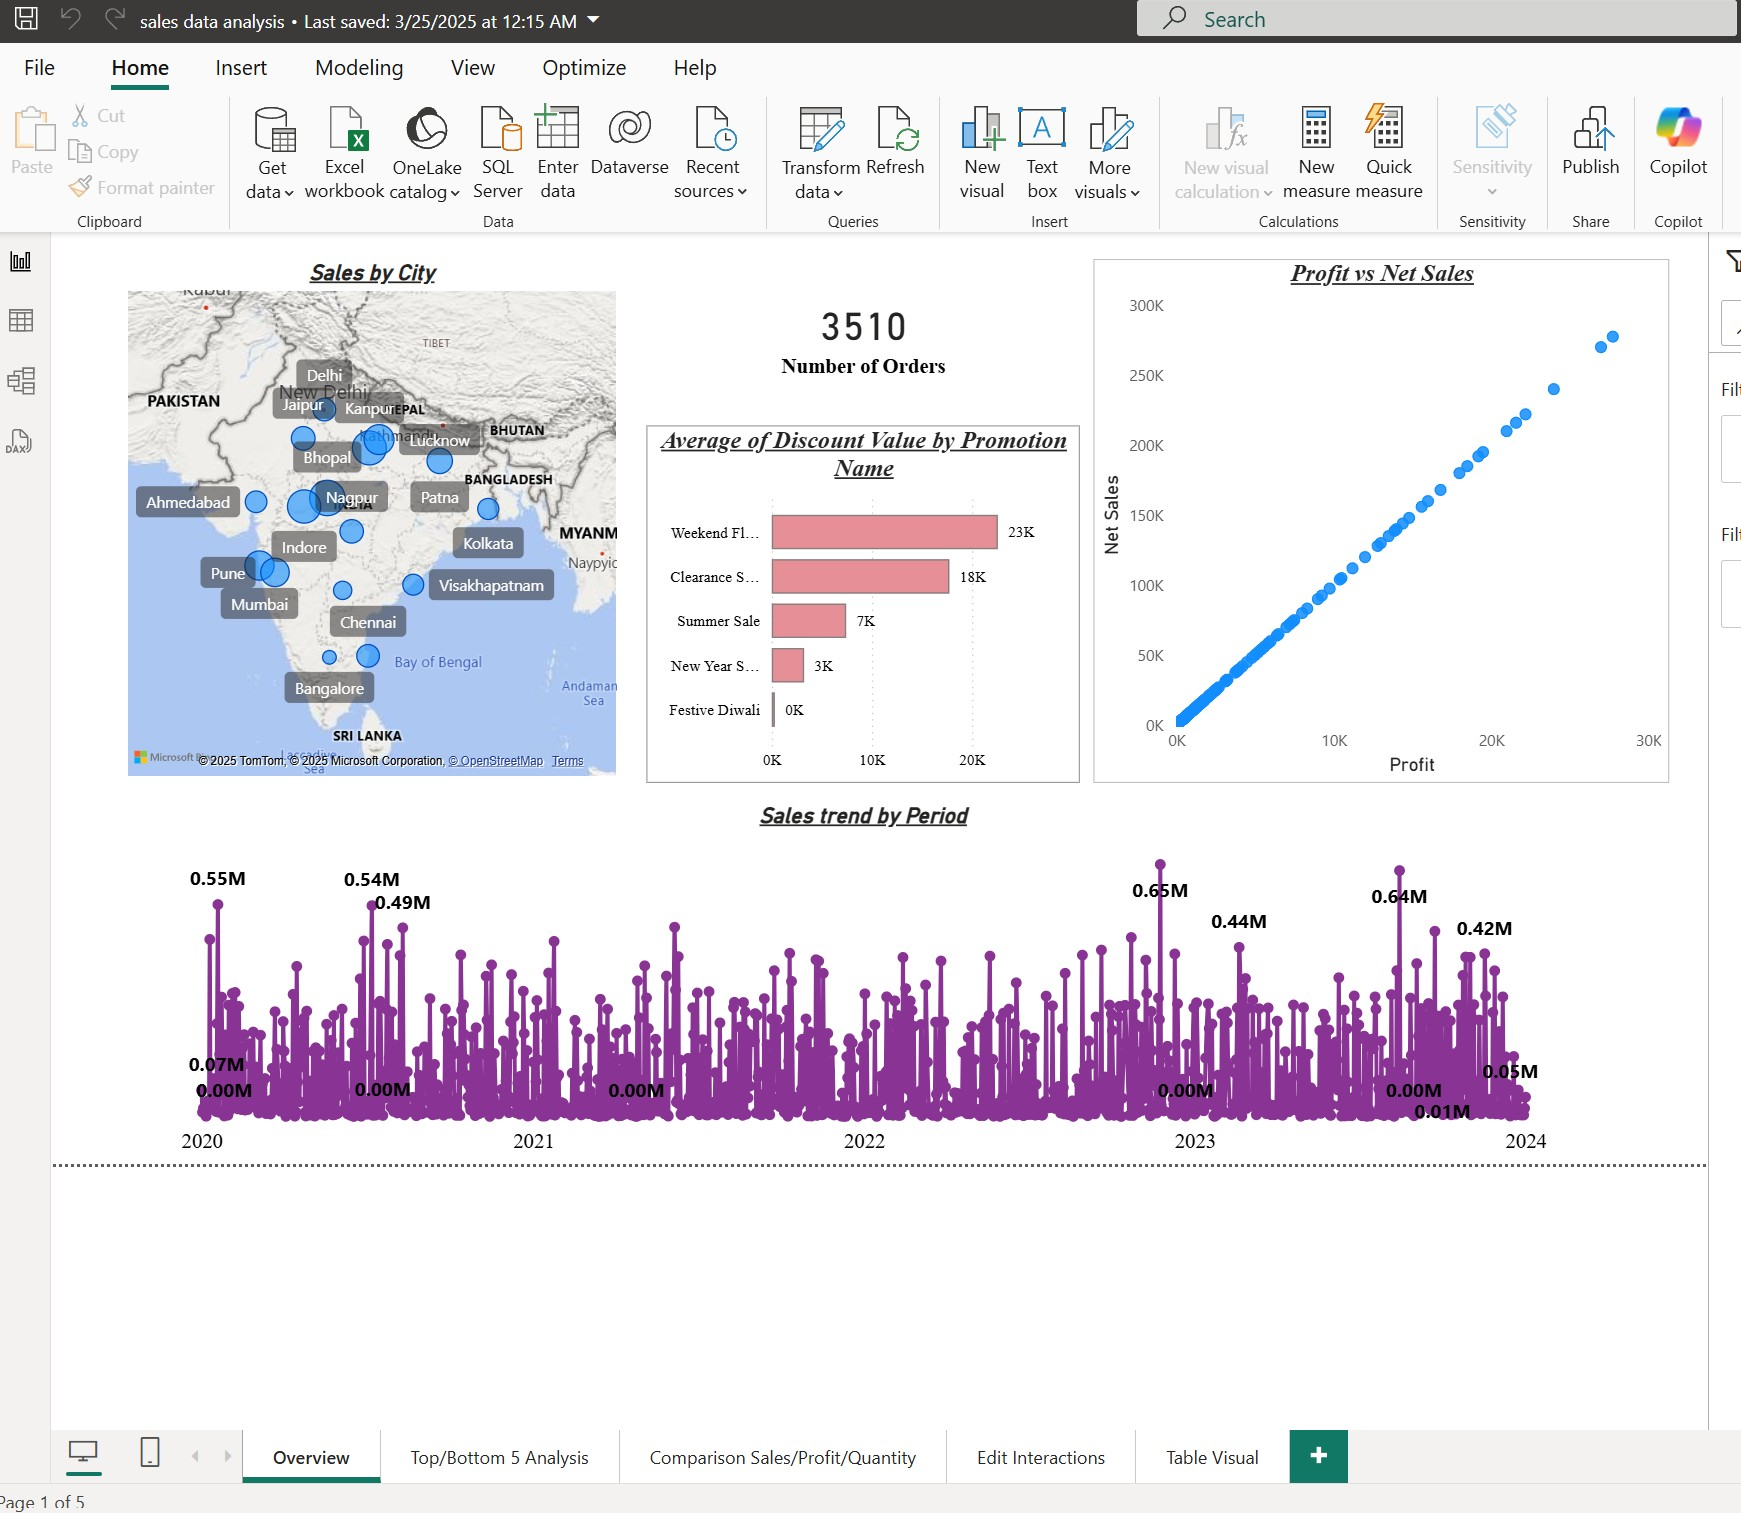

Layout of this report page (visuals, bound fields, positions):
{"tool":"powerbi","page":{"name":"Overview","canvas":[1280,720],"ordinal":0},"visuals":[{"type":"lineChart","title":"Sales trend by Period","fields":{"Category":["Fact Table.Date (dd/mm/yyyy).Variation.Date Hierarchy.Year"],"Y":["Sum(Fact Table.Net Sales)"]},"box":[95,440.3,1064.9,279.3],"z":0},{"type":"scatterChart","title":"Profit vs Net Sales","fields":{"X":["Fact Table.Profit"],"Y":["Fact Table.Net Sales"]},"box":[805.3,20.9,445,404.4],"z":1000},{"type":"barChart","fields":{"Category":["Dim Promotion.Promotion Name"],"Y":["Avg(Fact Table.Discount Value  )"]},"box":[460,149.5,334.9,275.8],"z":2000},{"type":"map","title":"Sales by City","fields":{"Size":["Sum(Fact Table.Net Sales)"],"Category":["Dim Customers.City"]},"box":[54.5,20.9,387,404.4],"z":3000},{"type":"card","fields":{"Values":["Count(Fact Table.OrderID)"]},"box":[460,20.9,334.9,117],"z":4000}]}

Visuals, with their boxes on the page's 1280x720 design canvas (x1, y1, x2, y2). These are canvas units, not pixel positions in the 1741x1513 screenshot, which may show the page scaled, cropped or inside an application window:
"Sales trend by Period" lineChart: <box>95,440,1160,720</box>
"Profit vs Net Sales" scatterChart: <box>805,21,1250,425</box>
barChart - Dim Promotion.Promotion Name x Avg(Fact Table.Discount Value  ): <box>460,150,795,425</box>
"Sales by City" map: <box>54,21,442,425</box>
card - Count(Fact Table.OrderID): <box>460,21,795,138</box>
